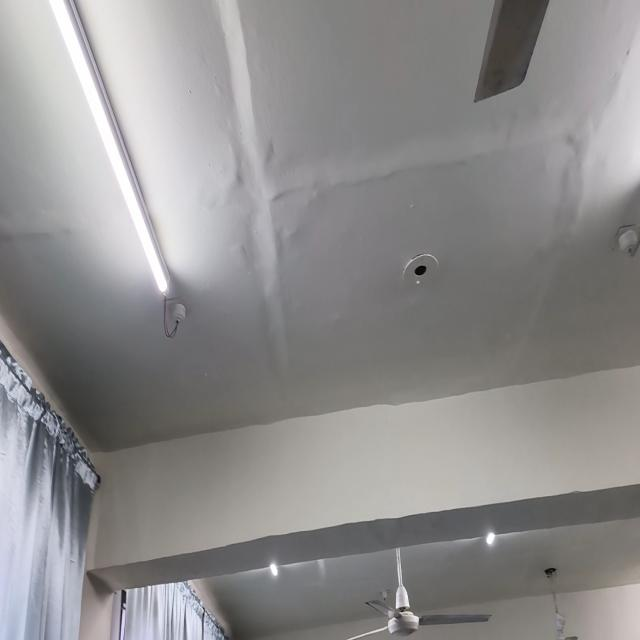Light: (49, 0, 170, 294), (269, 562, 278, 577), (486, 532, 495, 546)
